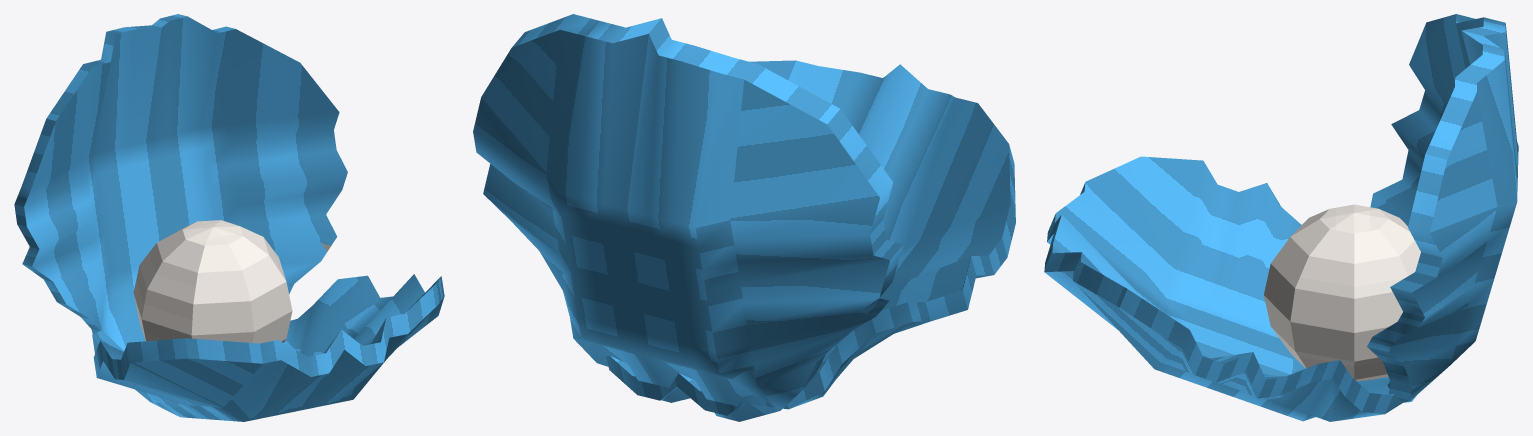
File: Sea Resource.fbx
3 renders of one model, left to right at view 1: azimuth 30°, elevation 25°; view 2: azimuth 150°, elevation 25°; view 3: azimuth 270°, elevation 25°, orthographic. The views are drawn at different scales.
Parts seen in each view (by area): view 1: pSphere2; view 2: pSphere2; view 3: pSphere2.
Part boxes in pixels (bbox=[...]): pSphere2: bbox=[14, 14, 444, 421]; pSphere2: bbox=[473, 14, 1015, 421]; pSphere2: bbox=[1044, 14, 1518, 421].
Bounding box in the file's own units: 17.53 × 17.59 × 20.96.
